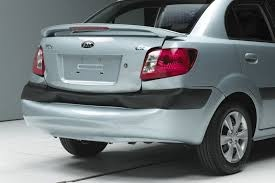Dent: (42, 94, 146, 119)
